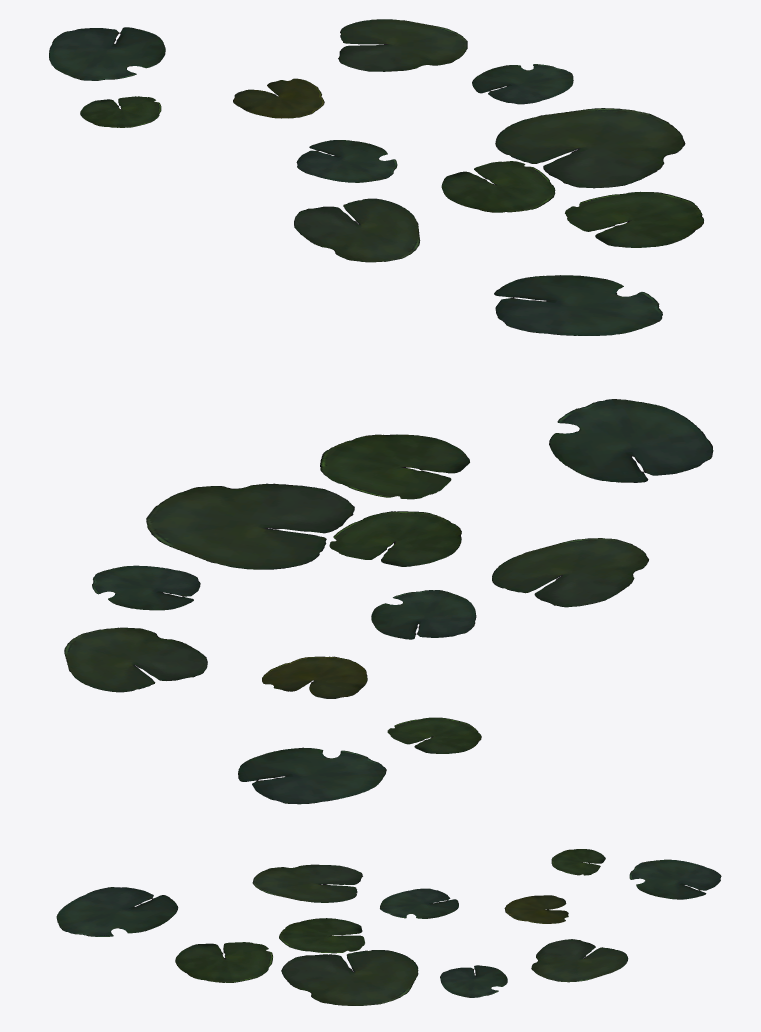
The model's file is lily_pads001.fbx.
3 views of the same model, one above another, from view 1: azimuth 30°, elevation 25°; view 2: azimuth 150°, elevation 25°; view 3: azimuth 270°, elevation 25° (orthographic). The views are drawn at different scales.
Visible parts, largest first — view 1: lily_pads001; view 2: lily_pads001; view 3: lily_pads001.
Part boxes in pixels (x1,y1,x2,y2): lily_pads001: (49, 19, 703, 335); lily_pads001: (64, 399, 713, 804); lily_pads001: (56, 849, 721, 1005).
Bounding box in the file's own units: 189 × 0.002 × 338.
